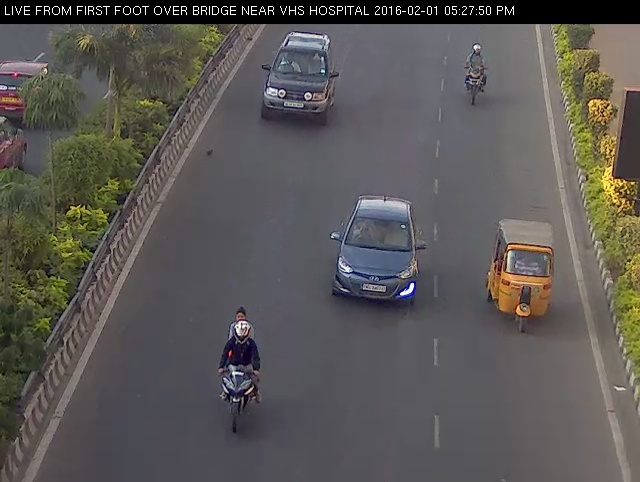Car: (316, 181, 438, 318), (483, 208, 560, 338), (256, 28, 344, 132)
Person: (208, 304, 271, 440), (458, 33, 492, 118)
